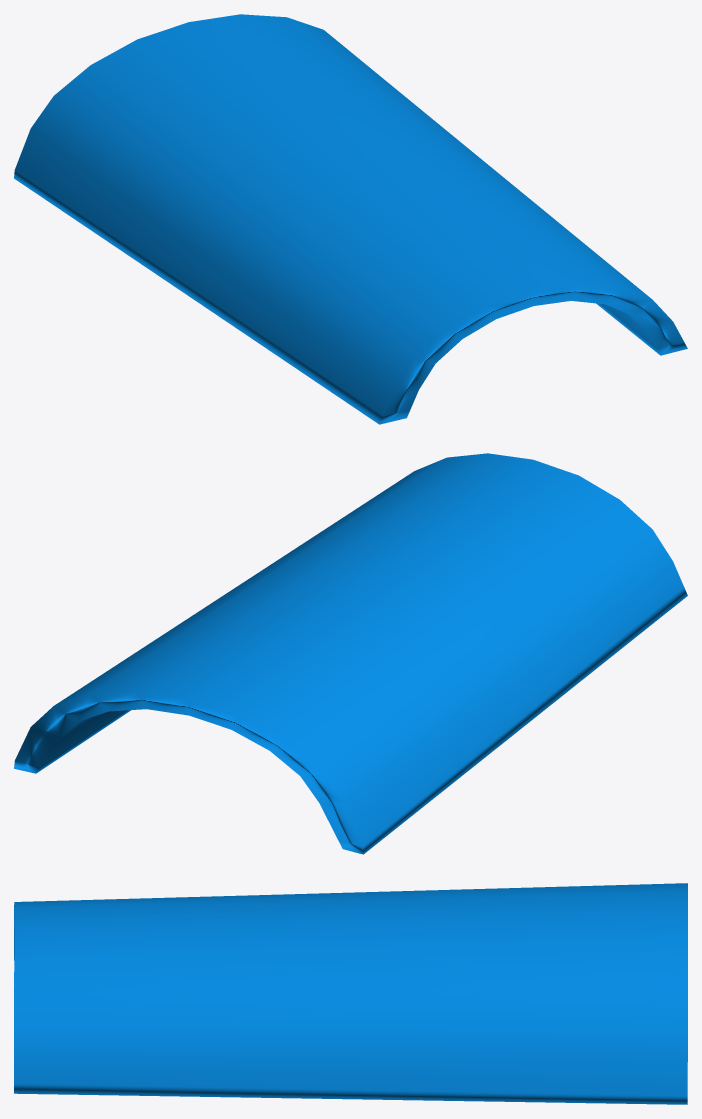
File: Roof_Tile_B_01.fbx
3 views of the same model, one above another, from view 1: azimuth 30°, elevation 25°; view 2: azimuth 150°, elevation 25°; view 3: azimuth 270°, elevation 25° (orthographic). The views are drawn at different scales.
Parts seen in each view (by area): view 1: Roof_Tile_B_01; view 2: Roof_Tile_B_01; view 3: Roof_Tile_B_01.
Part boxes in pixels (box(x1,y1,x2,y2)): Roof_Tile_B_01: box(14, 14, 687, 424); Roof_Tile_B_01: box(14, 453, 687, 854); Roof_Tile_B_01: box(14, 883, 687, 1104).
Bounding box in the file's own units: 40.58 × 12.62 × 69.42.
